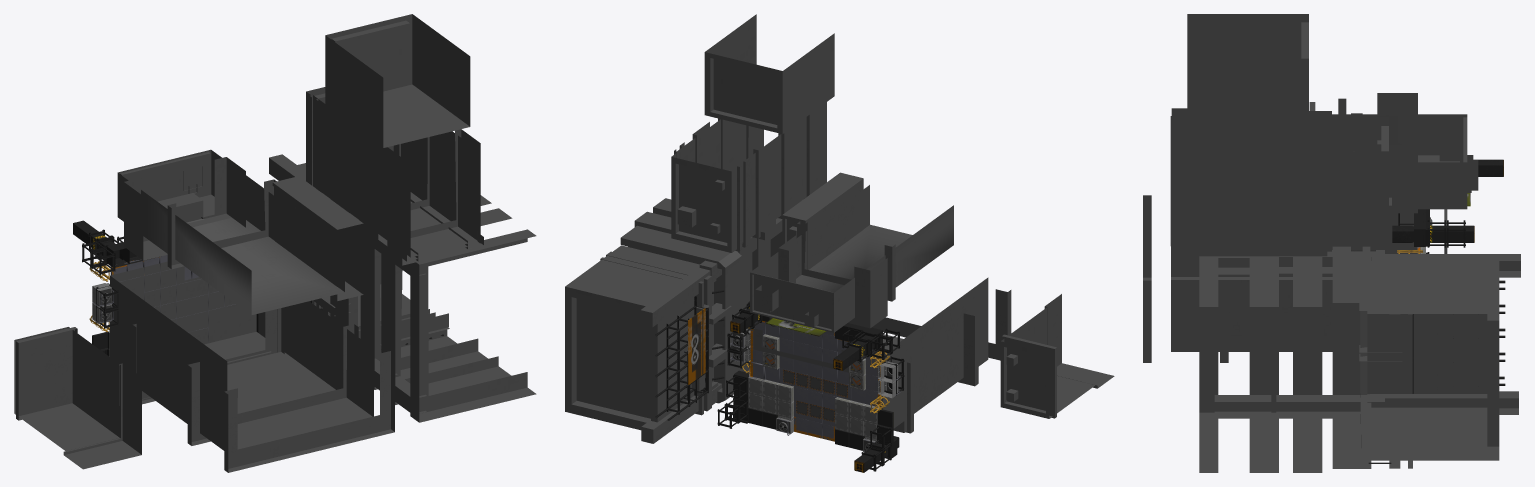
The picture shows the model from 3 angles, left to right: view 1: azimuth 30°, elevation 25°; view 2: azimuth 150°, elevation 25°; view 3: azimuth 270°, elevation 25°; orthographic projection. The views are drawn at different scales.
Parts seen in each view (by area): view 1: S_Outworld_building_058, S_Outworld_Building_016, S_Outworld_Building_015, S_Outworld_Building_018, S_Outworld_Building_00, S_Outworld_building_082, S_Outworld_building_078, S_Outworld_building_081, S_Outworld_building_083, S_Outworld_building_013, S_Outworld_building_075, S_Outworld_building_077 (+5 smaller); view 2: S_Outworld_BT_00, S_Outworld_Building_016, S_Outworld_Building_018, S_Outworld_Building_015, S_Outworld_building_058, S_Outworld_building_082, S_Outworld_BT_01, S_Outworld_building_078, S_Outworld_building_083, S_Outworld_Building_00, S_Outworld_BT_03, S_Outworld_building_013 (+10 smaller); view 3: S_Outworld_Building_015, S_Outworld_Building_016, S_Outworld_BT_00, S_Outworld_Building_018, S_Outworld_building_058, S_Outworld_building_083, S_Outworld_building_013, S_Outworld_BT_01, S_Outworld_building_081, S_Outworld_building_082, S_Outworld_Building_025, S_Outworld_prop_0239 (+3 smaller).
Boxes of the visible parts, x1,y1,x2,y2 form: S_Outworld_building_058: [110, 261, 374, 450]; S_Outworld_Building_016: [309, 95, 483, 265]; S_Outworld_Building_015: [314, 195, 536, 422]; S_Outworld_Building_018: [325, 14, 470, 147]; S_Outworld_Building_00: [16, 327, 141, 469]; S_Outworld_building_082: [146, 175, 344, 315]; S_Outworld_building_078: [272, 176, 363, 300]; S_Outworld_building_081: [224, 351, 394, 472]; S_Outworld_building_083: [117, 149, 231, 237]; S_Outworld_building_013: [124, 157, 245, 260]; S_Outworld_building_075: [187, 324, 358, 445]; S_Outworld_building_077: [167, 179, 276, 269]; S_Outworld_BT_00: [565, 245, 713, 430]; S_Outworld_Building_016: [674, 102, 826, 251]; S_Outworld_Building_018: [704, 14, 834, 134]; S_Outworld_Building_015: [600, 198, 782, 415]; S_Outworld_building_058: [751, 277, 988, 428]; S_Outworld_building_082: [776, 185, 953, 292]; S_Outworld_BT_01: [671, 153, 736, 252]; S_Outworld_building_078: [782, 172, 863, 269]; S_Outworld_building_083: [750, 253, 854, 332]; S_Outworld_Building_00: [1002, 294, 1114, 418]; S_Outworld_BT_03: [1000, 339, 1052, 418]; S_Outworld_building_013: [778, 235, 887, 328]; S_Outworld_Building_015: [1199, 246, 1412, 472]; S_Outworld_Building_016: [1170, 108, 1376, 256]; S_Outworld_BT_00: [1367, 261, 1499, 460]; S_Outworld_Building_018: [1187, 14, 1308, 132]; S_Outworld_building_058: [1171, 213, 1417, 351]; S_Outworld_building_083: [1406, 114, 1467, 209]; S_Outworld_building_013: [1377, 93, 1417, 213]; S_Outworld_BT_01: [1377, 117, 1388, 246]; S_Outworld_building_081: [1143, 195, 1151, 362]; S_Outworld_building_082: [1332, 114, 1405, 209]; S_Outworld_Building_025: [1371, 254, 1520, 277]; S_Outworld_prop_0239: [1392, 225, 1474, 242].
Bounding box in the file's own units: 0.2895 × 0.2136 × 0.1937.
Materials: 3 (3 with a texture image).
